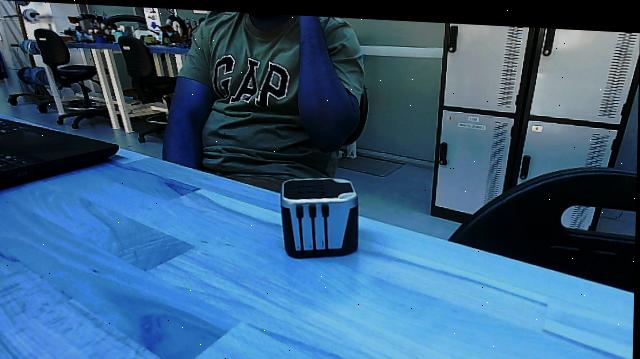adapter: (277, 167, 364, 259)
